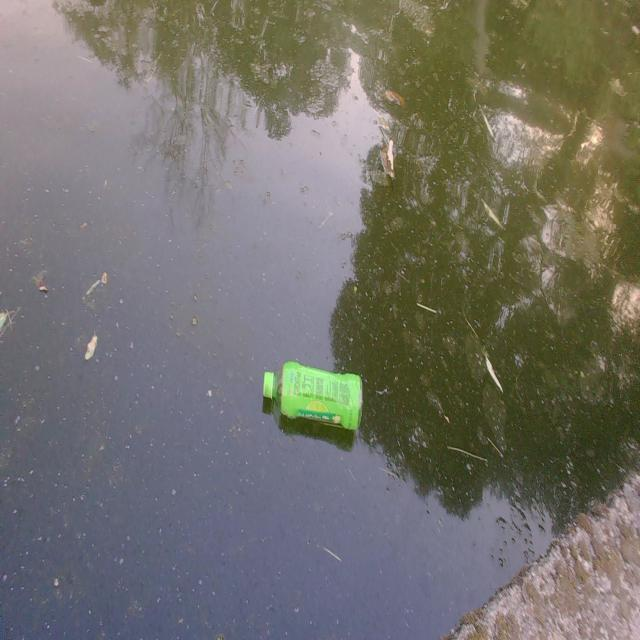garbage: (262, 358, 363, 430)
